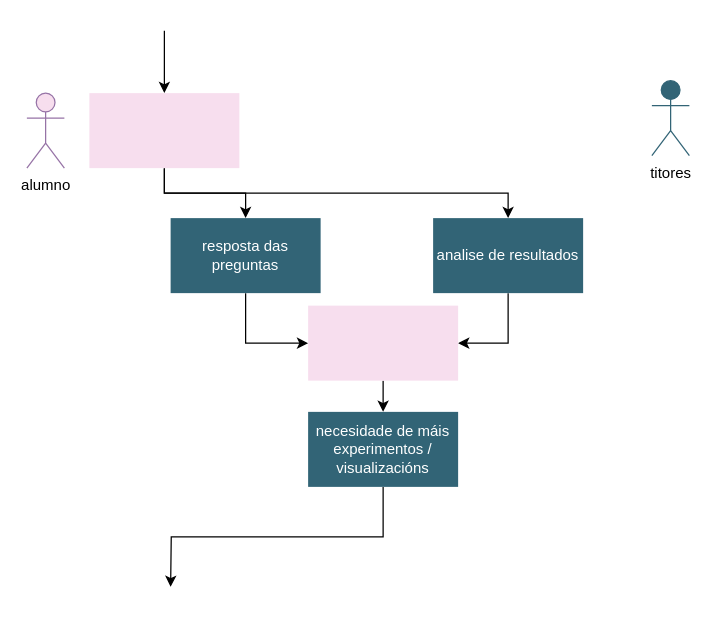
Image size: 713x619. Some labels were removed from this diagram. The box of each missing label's shape, as (x1, y1, x2, y2) in pixels:
novas preguntas: (308, 305, 458, 380)
Resultados e preguntas: (89, 92, 239, 168)
